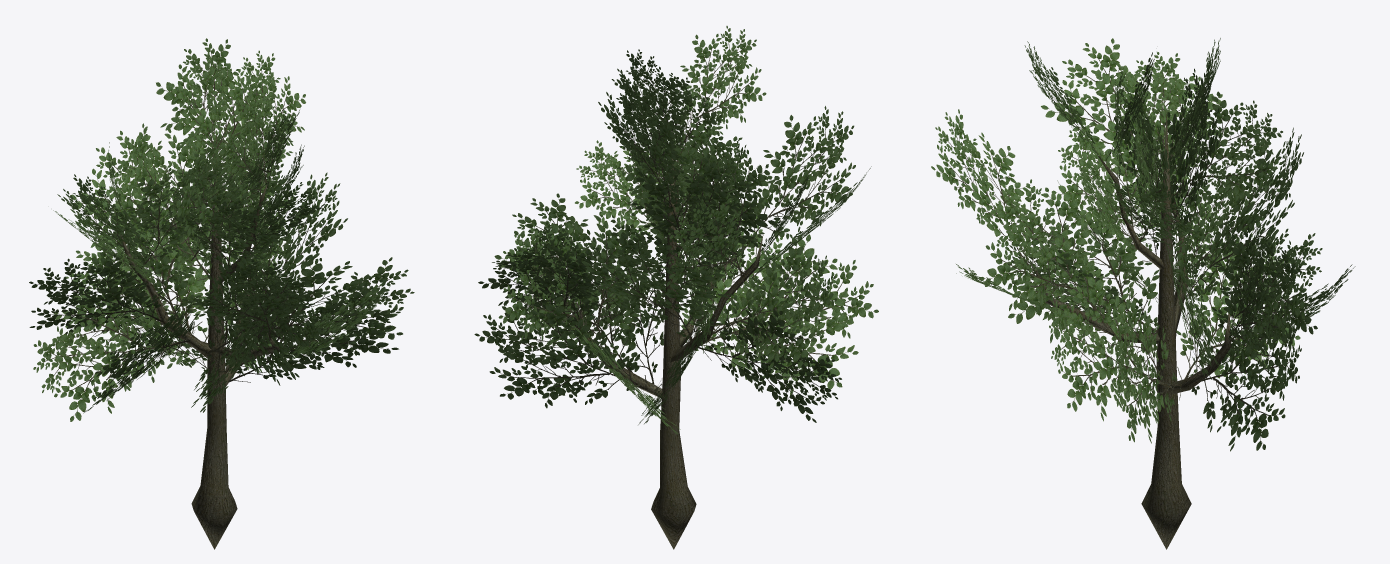
File: Sun_0013_Large_tree_1.fbx
3 views of the same model, side by side, from view 1: azimuth 30°, elevation 25°; view 2: azimuth 150°, elevation 25°; view 3: azimuth 270°, elevation 25° (orthographic). The views are drawn at different scales.
Visible parts, largest first — view 1: Sun_0013_Large_tree_1; view 2: Sun_0013_Large_tree_1; view 3: Sun_0013_Large_tree_1.
Part boxes in pixels (<box>): Sun_0013_Large_tree_1: <box>29,38,414,549</box>; Sun_0013_Large_tree_1: <box>474,26,878,549</box>; Sun_0013_Large_tree_1: <box>931,38,1355,549</box>.
Size of the model in its own units: 801 by 1023 by 764.
